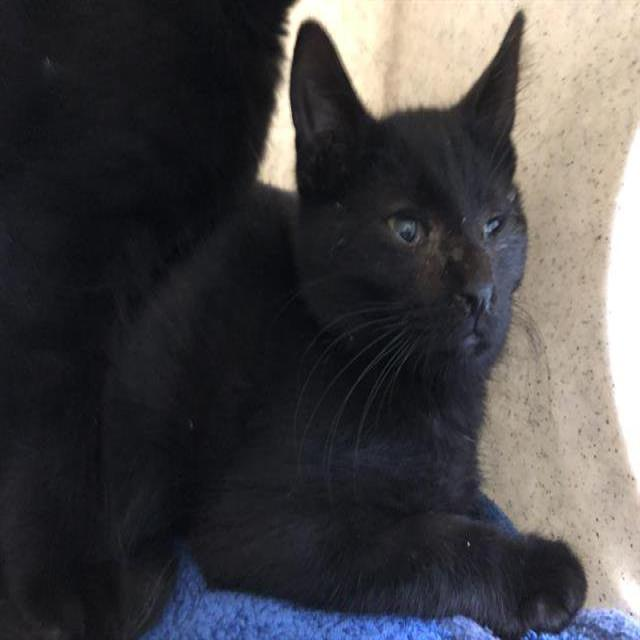cat: (284, 74, 544, 360)
